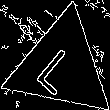L_NE: (34, 37, 89, 95)
